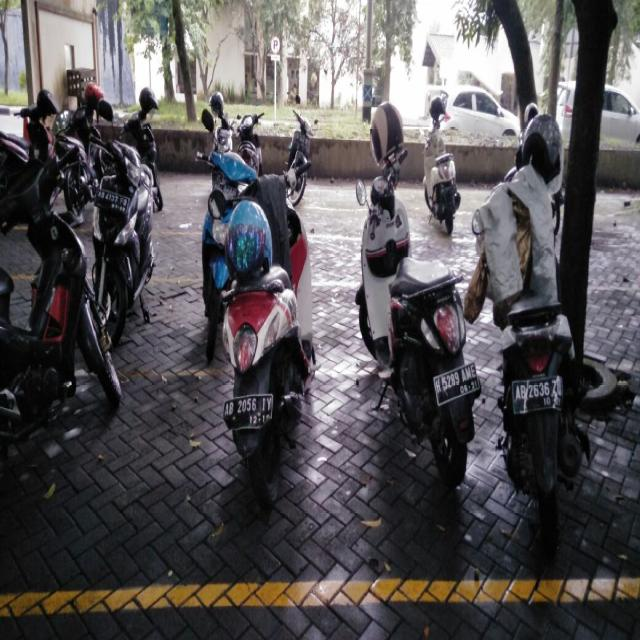plate: (434, 361, 478, 402), (511, 375, 563, 409), (224, 392, 273, 427), (94, 187, 129, 215)
